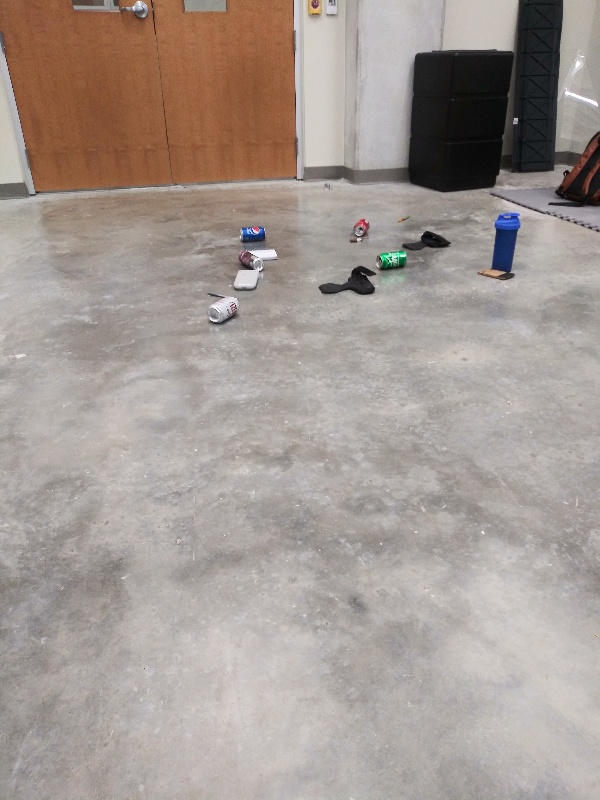can: (200, 294, 245, 324), (375, 246, 411, 274), (234, 246, 268, 273), (349, 217, 373, 238), (238, 225, 268, 240)
